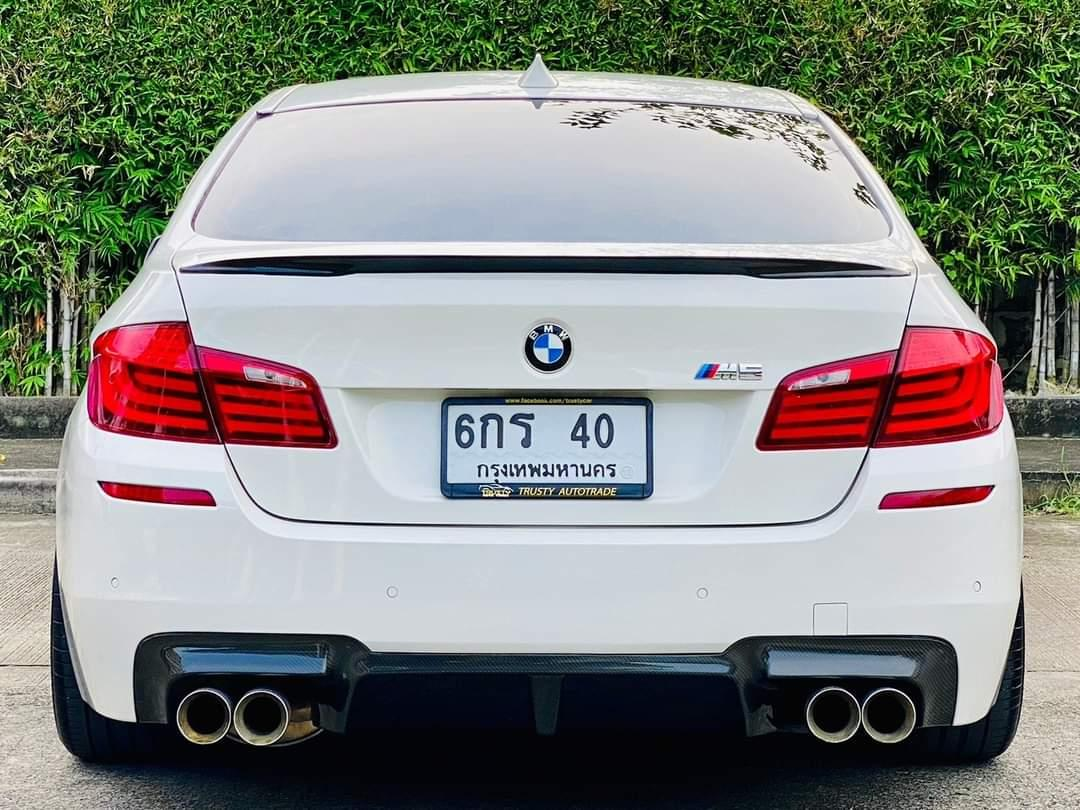license-plate: (440, 392, 654, 501)
